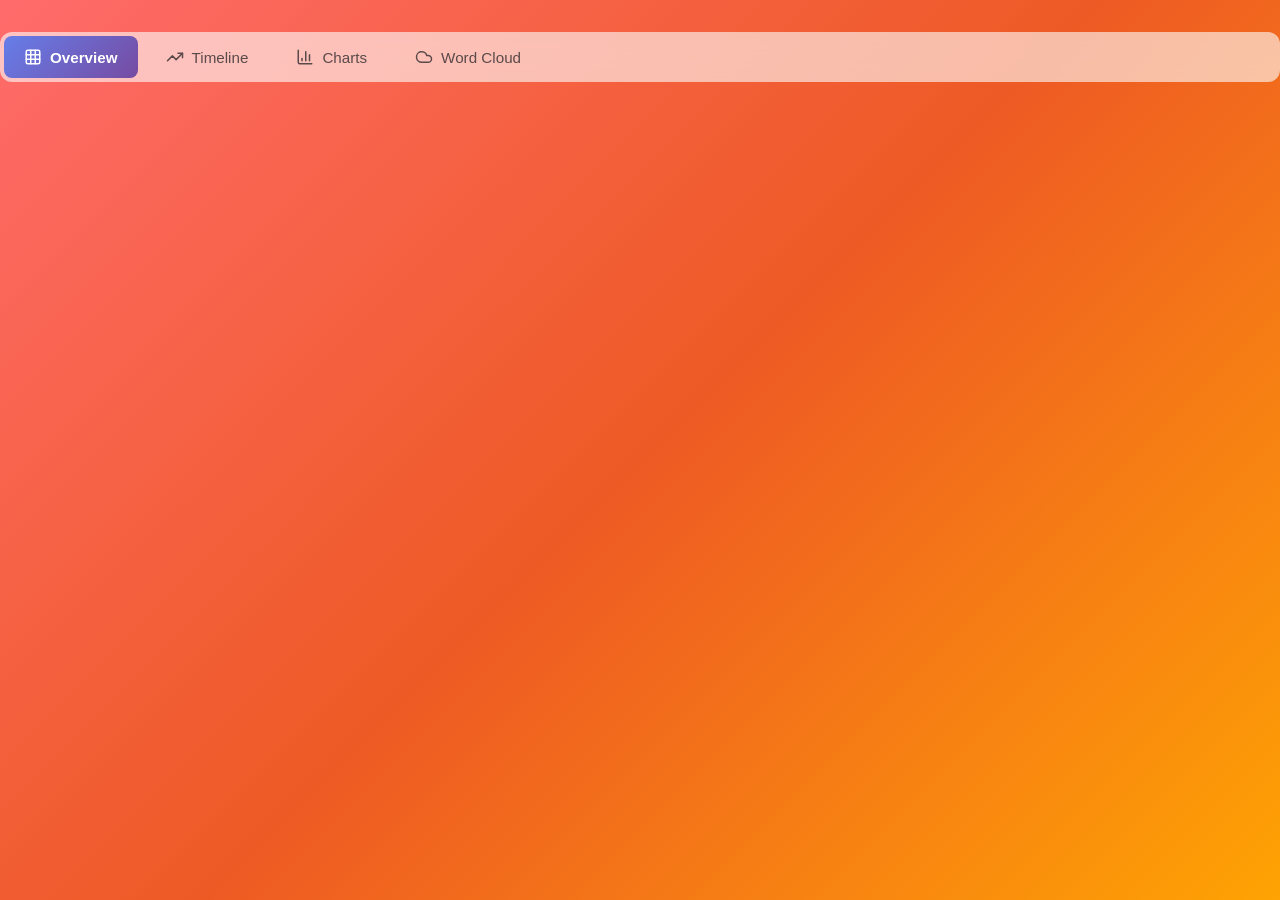
AnalyticsTabs › should switch to Word Cloud tab when clicked
Click the button "Word Cloud": (468, 57) [395,36,541,78]
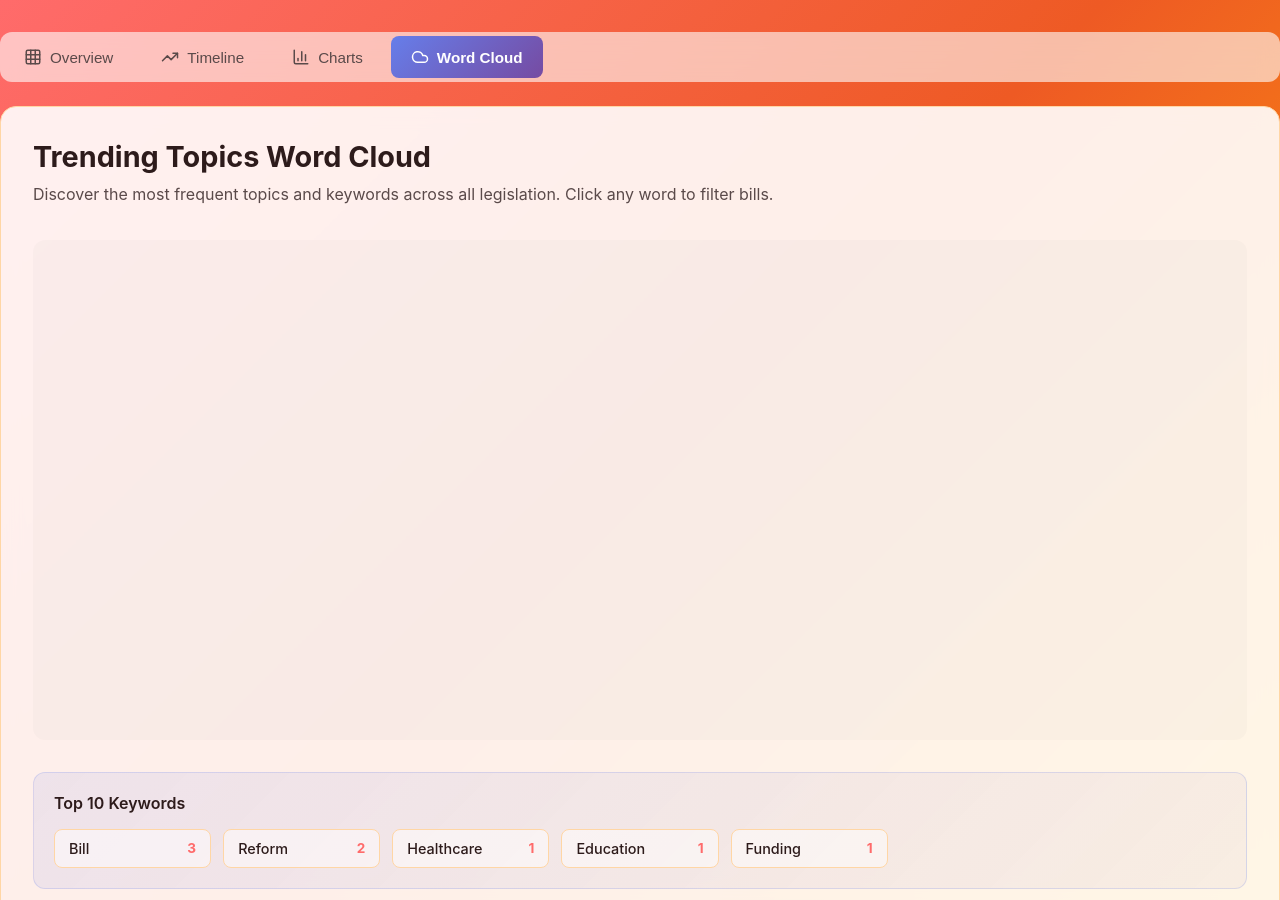
Expected: the heading "Trending Topics Word Cloud" is shown, [33,139,431,174]
